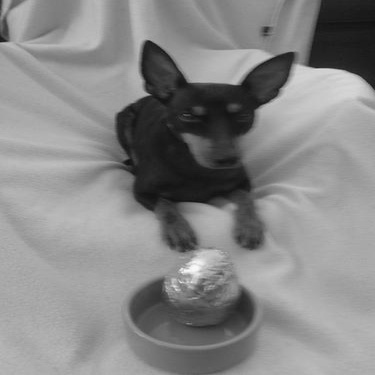dog: (94, 28, 302, 262)
